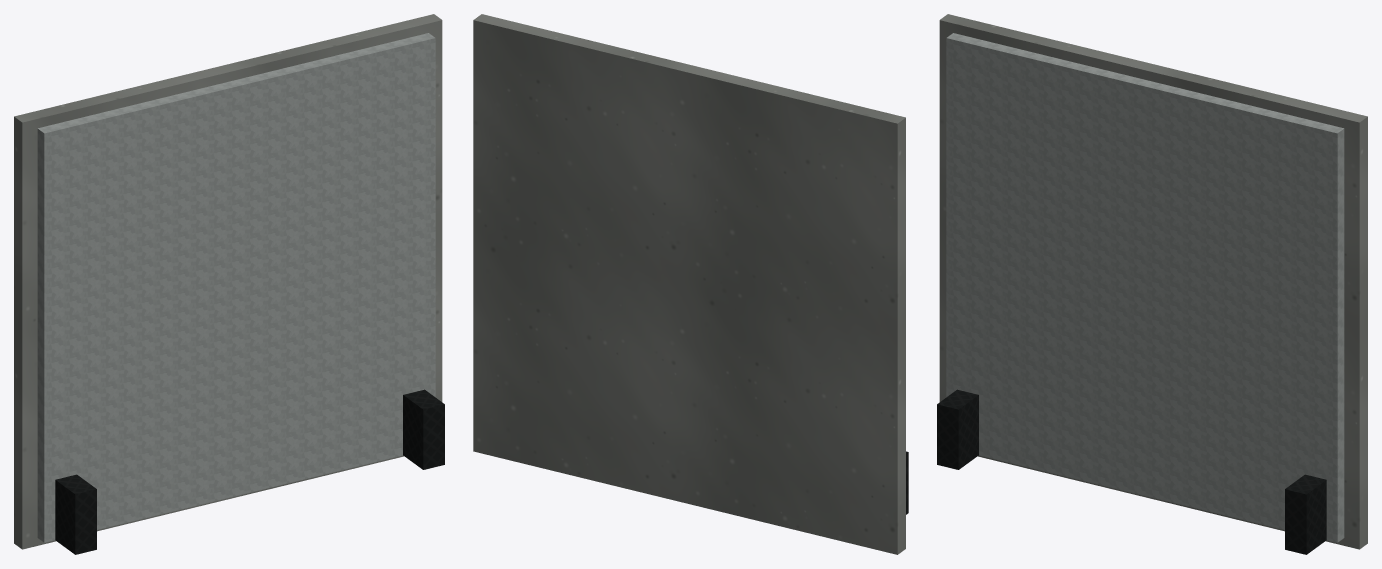
Rendered from door-loading-rollup.lod2.gltf.
3 renders of one model, left to right at view 1: azimuth 30°, elevation 25°; view 2: azimuth 150°, elevation 25°; view 3: azimuth 330°, elevation 25°, orthographic.
Parts seen in each view (by area): view 1: door-loading-rollup; view 2: door-loading-rollup; view 3: door-loading-rollup.
Part boxes in pixels (bbox=[...]): door-loading-rollup: bbox=[14, 14, 444, 554]; door-loading-rollup: bbox=[473, 14, 908, 554]; door-loading-rollup: bbox=[937, 14, 1367, 554].
Size of the model in its own units: 3.49 by 3.39 by 0.52.
3 materials, 3 textured.
